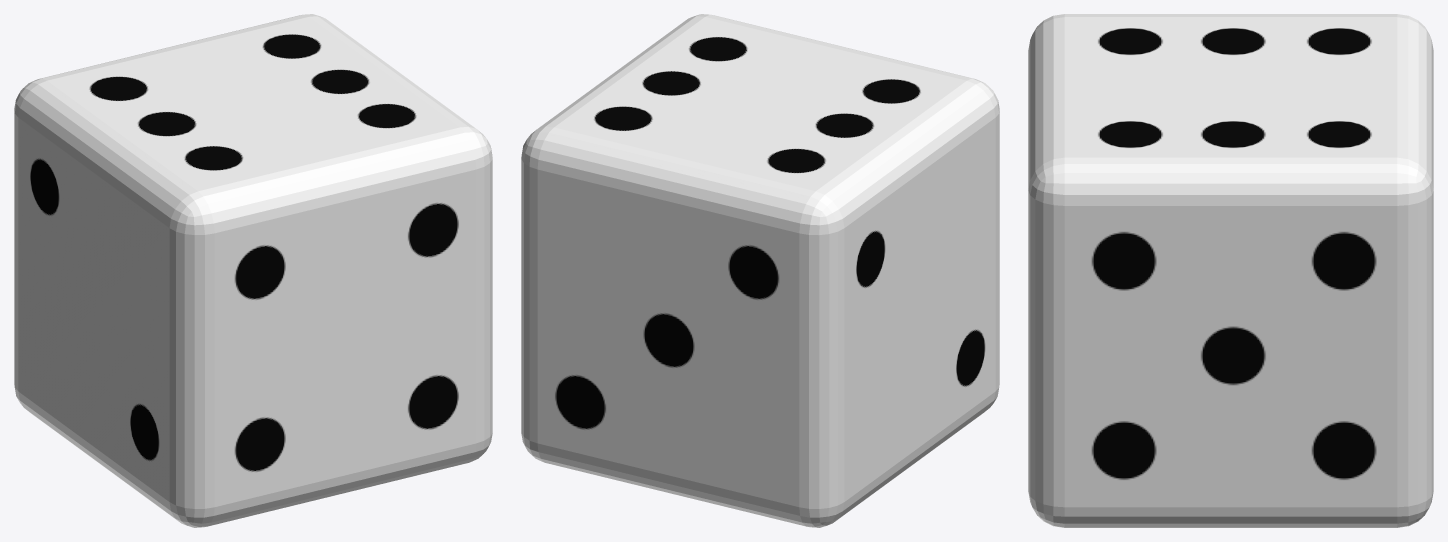
Rendered from DiceBevel.fbx.
3 views of the same model, side by side, from view 1: azimuth 30°, elevation 25°; view 2: azimuth 150°, elevation 25°; view 3: azimuth 270°, elevation 25° (orthographic). The views are drawn at different scales.
Parts seen in each view (by area): view 1: Dice; view 2: Dice; view 3: Dice.
Part boxes in pixels (<box>): Dice: <box>14,14,492,527</box>; Dice: <box>521,14,999,527</box>; Dice: <box>1028,14,1433,527</box>.
Size of the model in its own units: 100 by 100 by 100.
1 material, 1 textured.
